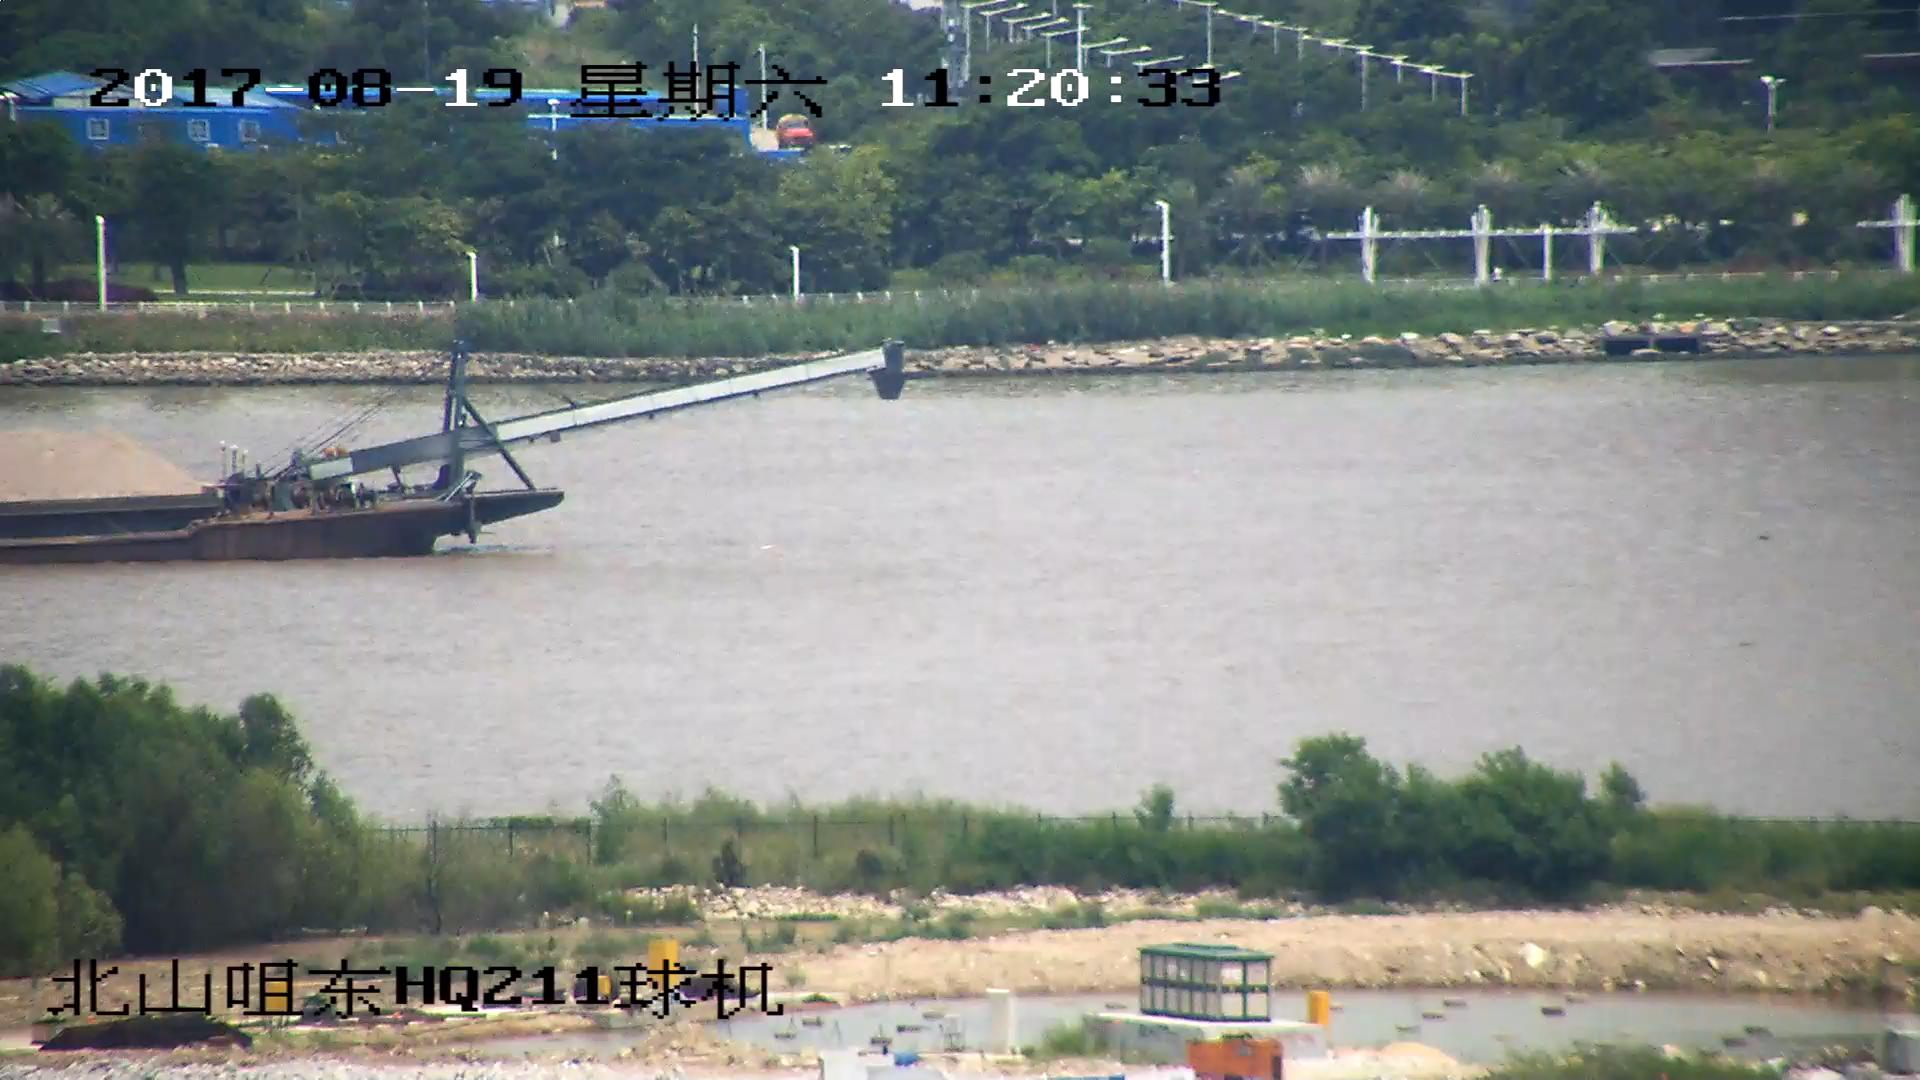ore carrier: (1, 342, 899, 562)
